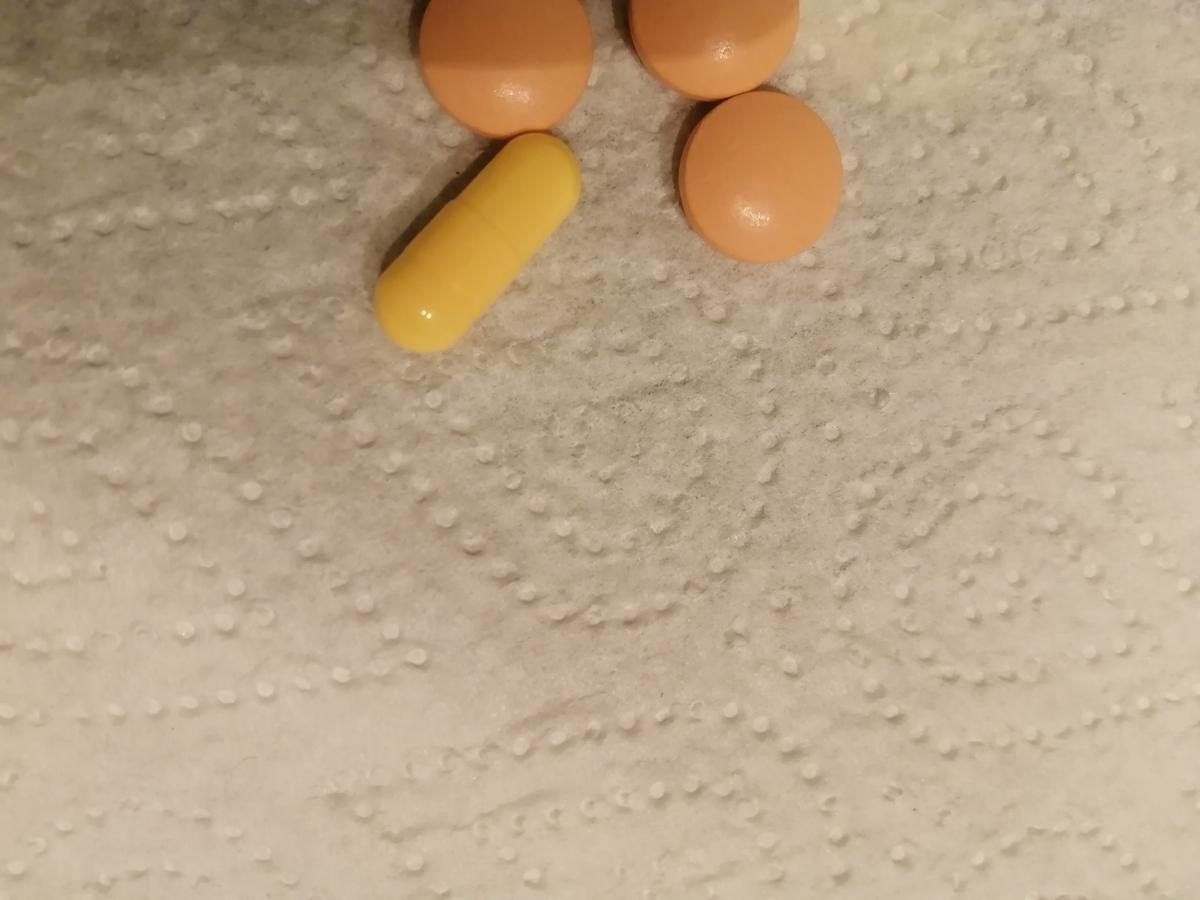capsule: (367, 125, 588, 367)
tablet: (671, 90, 852, 264), (418, 1, 596, 140), (619, 1, 800, 102)
